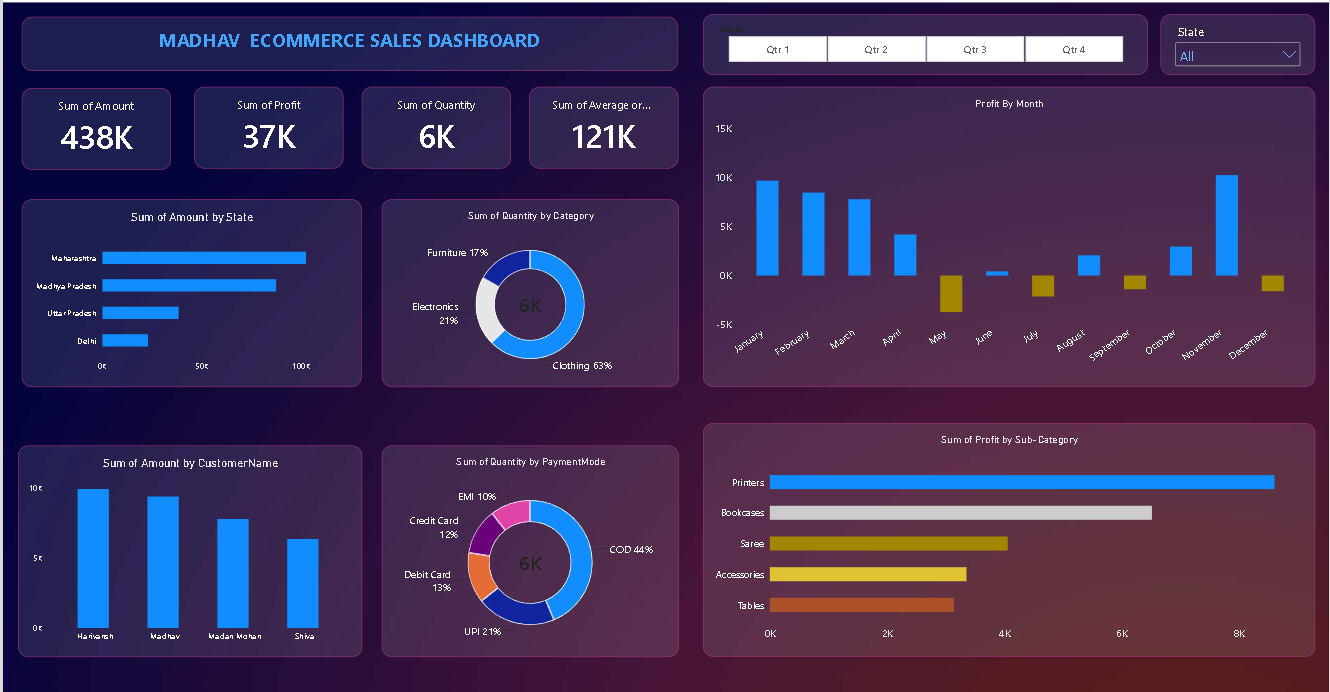

The page's visual inventory and layout, read from the dashboard file:
{"tool":"powerbi","page":{"name":"Page 1","canvas":[1920,1080],"ordinal":0},"visuals":[{"type":"columnChart","title":"Profit By Month","fields":{"Category":["Orders.Order Date.Variation.Date Hierarchy.Month"],"Y":["Sum(Details.Profit)"]},"box":[1014,158,886,434],"z":1000},{"type":"barChart","fields":{"Category":["Details.Sub-Category"],"Y":["Sum(Details.Profit)"]},"box":[1014,644,886,338],"z":2000},{"type":"donutChart","fields":{"Category":["Details.Category"],"Y":["Sum(Details.Quantity)"]},"box":[548,320,430,272],"z":3000},{"type":"donutChart","fields":{"Category":["Details.PaymentMode"],"Y":["Sum(Details.Quantity)"]},"box":[548,676,430,306],"z":4000},{"type":"cardVisual","fields":{"Data":["Sum(Details.Amount)"]},"box":[28,160,216,118],"z":5000},{"type":"cardVisual","fields":{"Data":["Sum(Details.Profit)"]},"box":[276,158,216,118],"z":5001},{"type":"cardVisual","fields":{"Data":["Sum(Details.Quantity)"]},"box":[520,158,216,118],"z":5002},{"type":"cardVisual","fields":{"Data":["Sum(Details.Average order Value)"]},"box":[762,158,216,118],"z":5003},{"type":"barChart","fields":{"Category":["Orders.State"],"Y":["Sum(Details.Amount)"]},"box":[28,320,492,272],"z":5005},{"type":"columnChart","fields":{"Category":["Orders.CustomerName"],"Y":["Sum(Details.Amount)"]},"box":[22,676,498,306],"z":5006},{"type":"textbox","box":[28,56,950,78],"z":5007},{"type":"slicer","fields":{"Values":["Orders.Order Date.Variation.Date Hierarchy.Quarter"]},"box":[1014,52,644,88],"z":5008},{"type":"slicer","fields":{"Values":["Orders.State"]},"box":[1676,52,224,88],"z":5009}]}

Visuals, with their boxes on the page's 1920x1080 design canvas (x1, y1, x2, y2). These are canvas units, not pixel positions in the 1330x692 screenshot, which may show the page scaled, cropped or inside an application window:
"Profit By Month" columnChart: select_region(1014, 158, 1900, 592)
barChart - Details.Sub-Category x Sum(Details.Profit): select_region(1014, 644, 1900, 982)
donutChart - Details.Category x Sum(Details.Quantity): select_region(548, 320, 978, 592)
donutChart - Details.PaymentMode x Sum(Details.Quantity): select_region(548, 676, 978, 982)
cardVisual - Sum(Details.Amount): select_region(28, 160, 244, 278)
cardVisual - Sum(Details.Profit): select_region(276, 158, 492, 276)
cardVisual - Sum(Details.Quantity): select_region(520, 158, 736, 276)
cardVisual - Sum(Details.Average order Value): select_region(762, 158, 978, 276)
barChart - Orders.State x Sum(Details.Amount): select_region(28, 320, 520, 592)
columnChart - Orders.CustomerName x Sum(Details.Amount): select_region(22, 676, 520, 982)
textbox: select_region(28, 56, 978, 134)
slicer - Orders.Order Date.Variation.Date Hierarchy.Quarter: select_region(1014, 52, 1658, 140)
slicer - Orders.State: select_region(1676, 52, 1900, 140)
